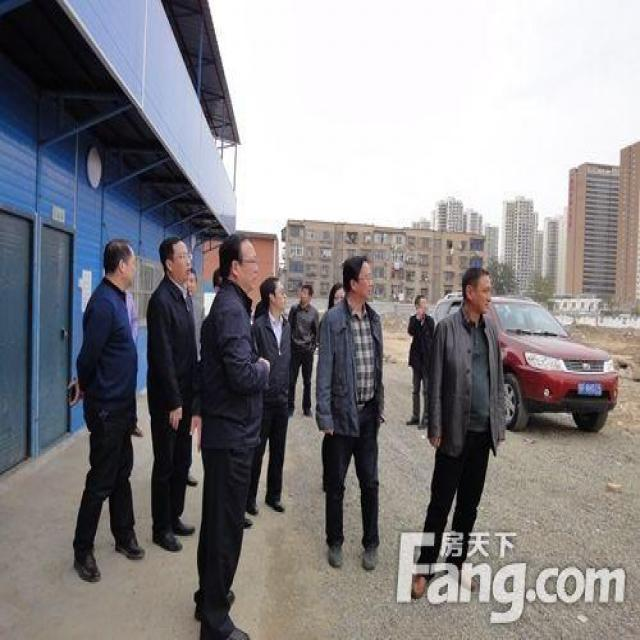head: (220, 224, 268, 293), (97, 232, 135, 291), (458, 259, 496, 317), (339, 252, 372, 308), (161, 235, 194, 284), (257, 274, 294, 317), (411, 288, 433, 320), (297, 281, 316, 306)
person: (62, 223, 153, 592), (197, 229, 271, 640), (314, 252, 393, 581), (429, 261, 506, 593), (142, 226, 207, 558), (260, 274, 291, 520), (404, 289, 436, 433)
